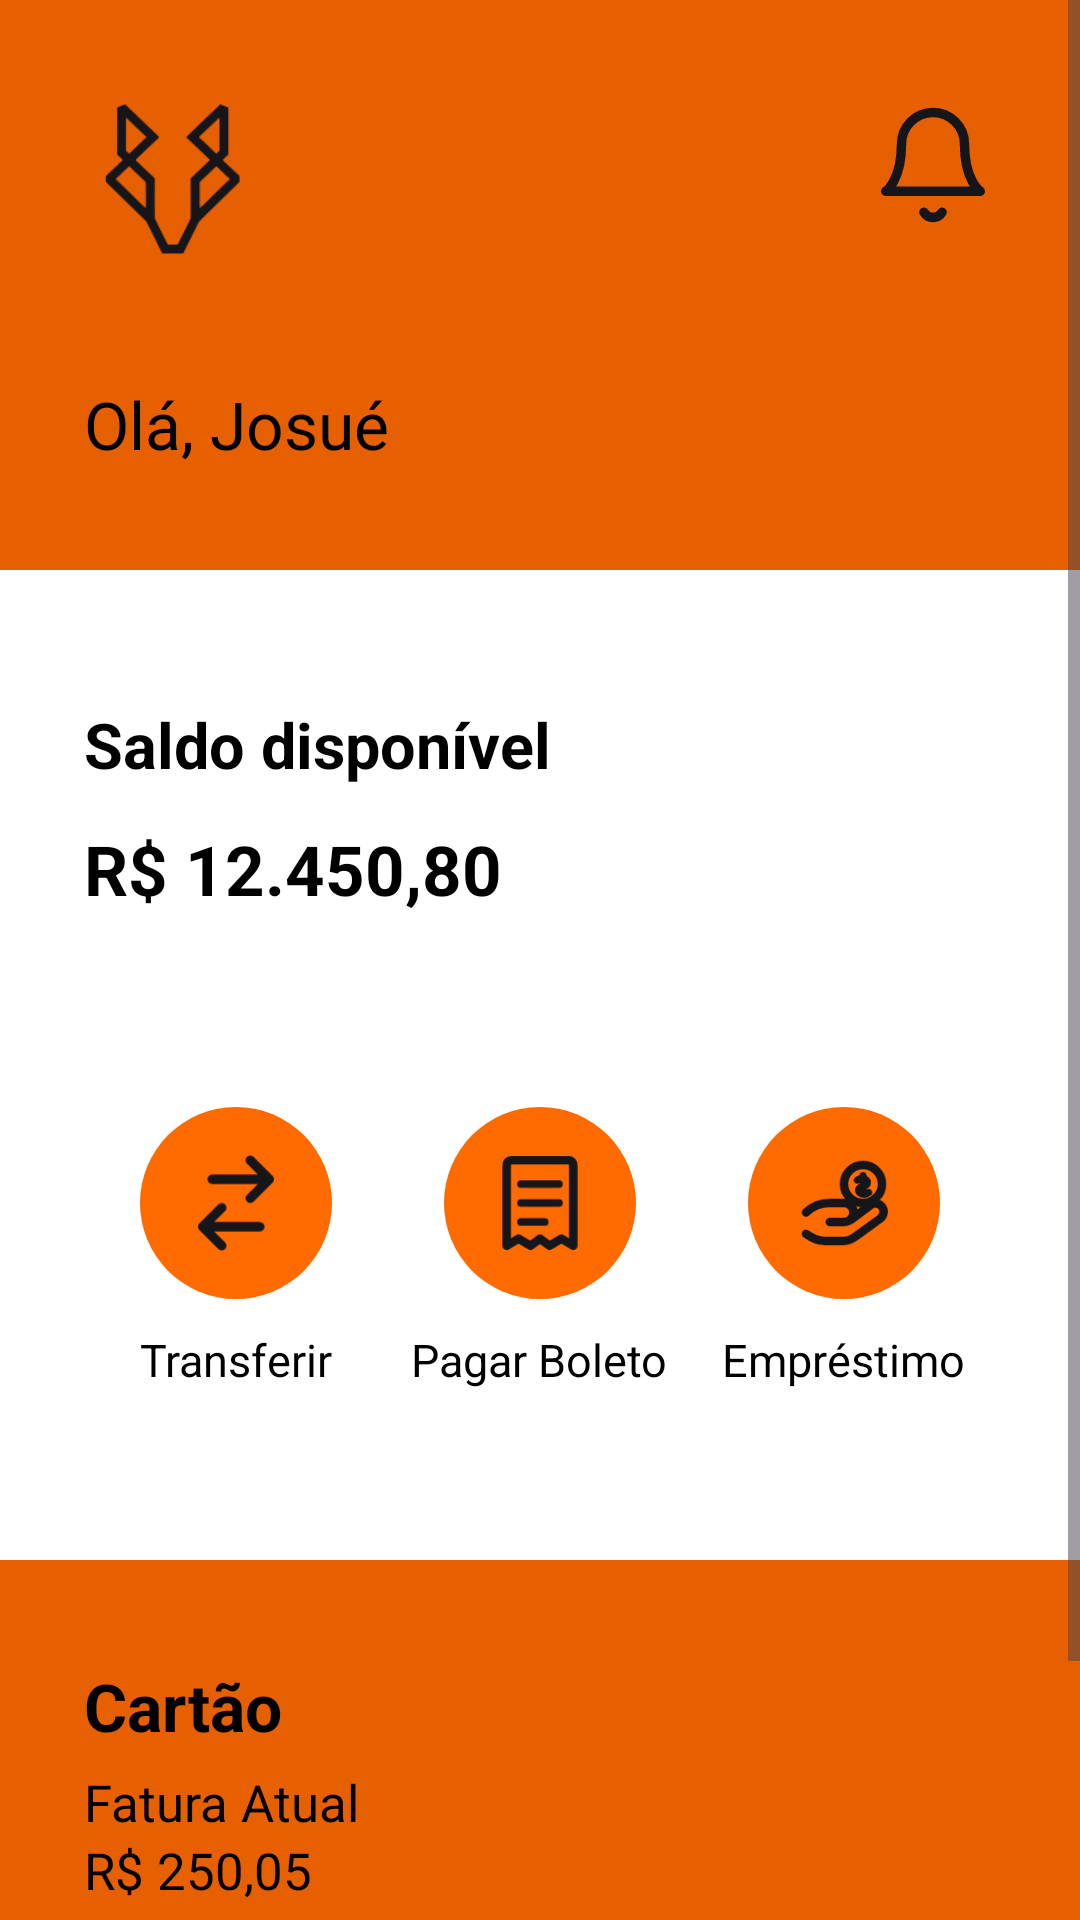

Icons on this 1080×1920 Android screen, each with the point to tap as [x,y]:
notificacao: [933,165]
